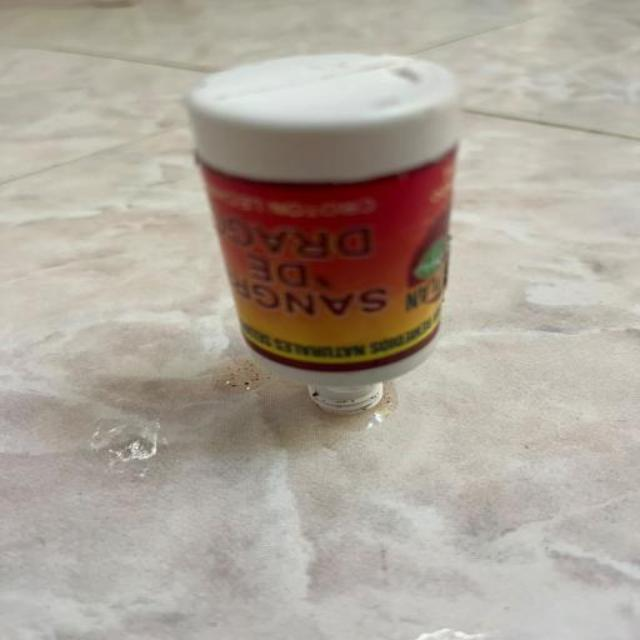HDPE: (159, 31, 521, 458)
